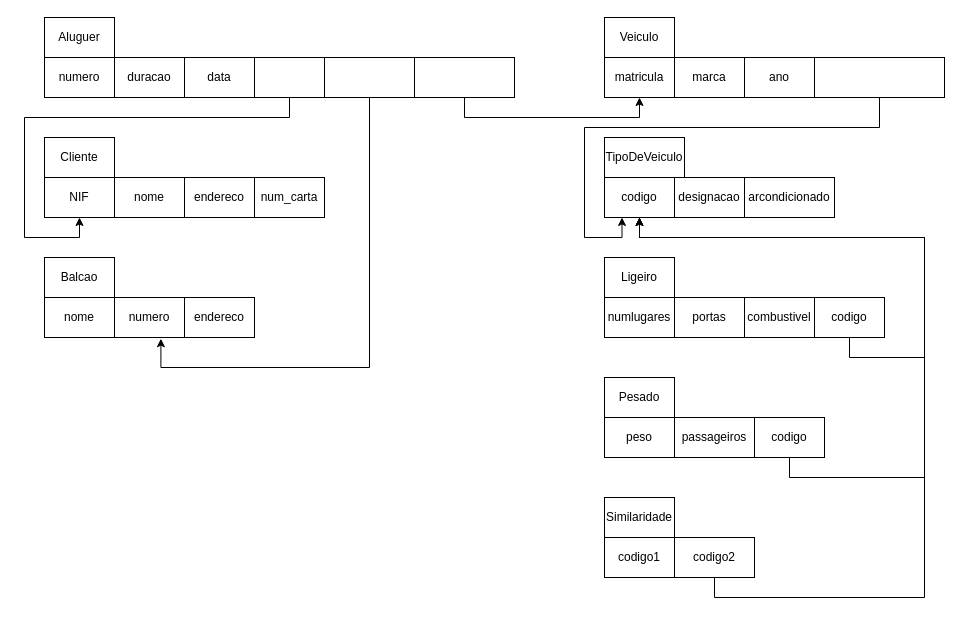
Some shapes in this 962 by 623 pixel diagram are drawn without their labels. The shapes that lost their labels are listed below. From the top down, each one's centre as x and y in pixels, then its label:
At point (289, 77): "Cliente_NIF".
At point (369, 77): "Balcao_numero".
At point (464, 77): "Veiculo_matricula".
At point (879, 77): "TipoDeVeiculo_codigo".
